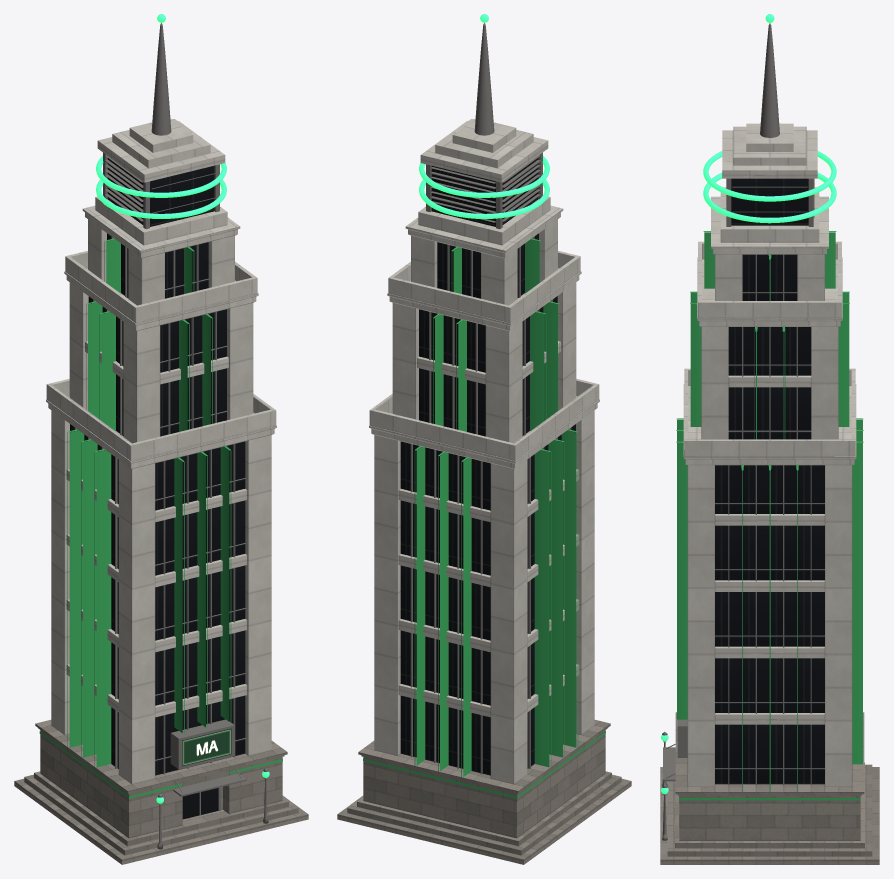
File: s25-mypet-ai.glb
The picture shows the model from 3 angles, left to right: view 1: azimuth 30°, elevation 25°; view 2: azimuth 150°, elevation 25°; view 3: azimuth 270°, elevation 25°; orthographic projection.
Visible parts, largest first — view 1: Landmark · MyPet.AI (Series 25); view 2: Landmark · MyPet.AI (Series 25); view 3: Landmark · MyPet.AI (Series 25).
Boxes of the visible parts, bbox=[...] form: Landmark · MyPet.AI (Series 25): bbox=[14, 14, 308, 864]; Landmark · MyPet.AI (Series 25): bbox=[337, 14, 631, 864]; Landmark · MyPet.AI (Series 25): bbox=[660, 14, 879, 864].
Bounding box in the file's own units: 12 × 48.5 × 12.
7 materials, 4 textured.
